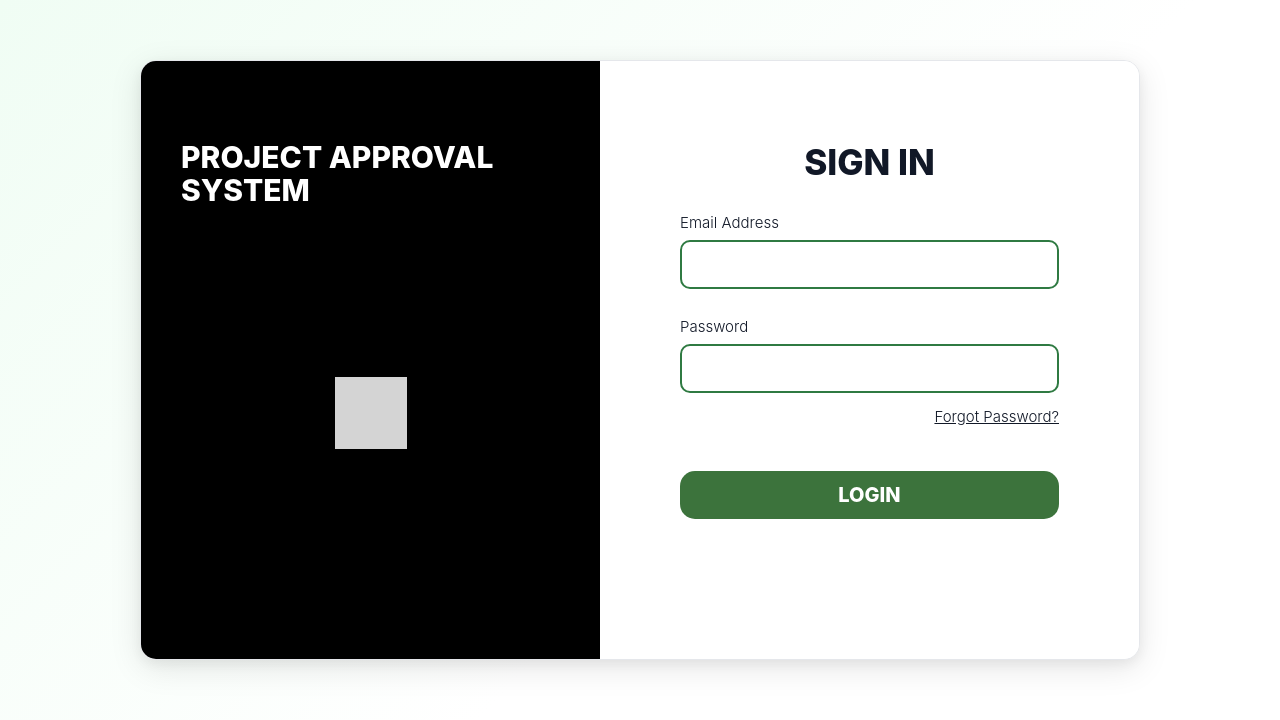
LoginPage › Form Validation › should show error when email is empty
This screenshot has width=1280, height=720.
Type "password123" into the password field labelled "Password".
click(870, 368); type("password123")  # box [680, 344, 1059, 393]
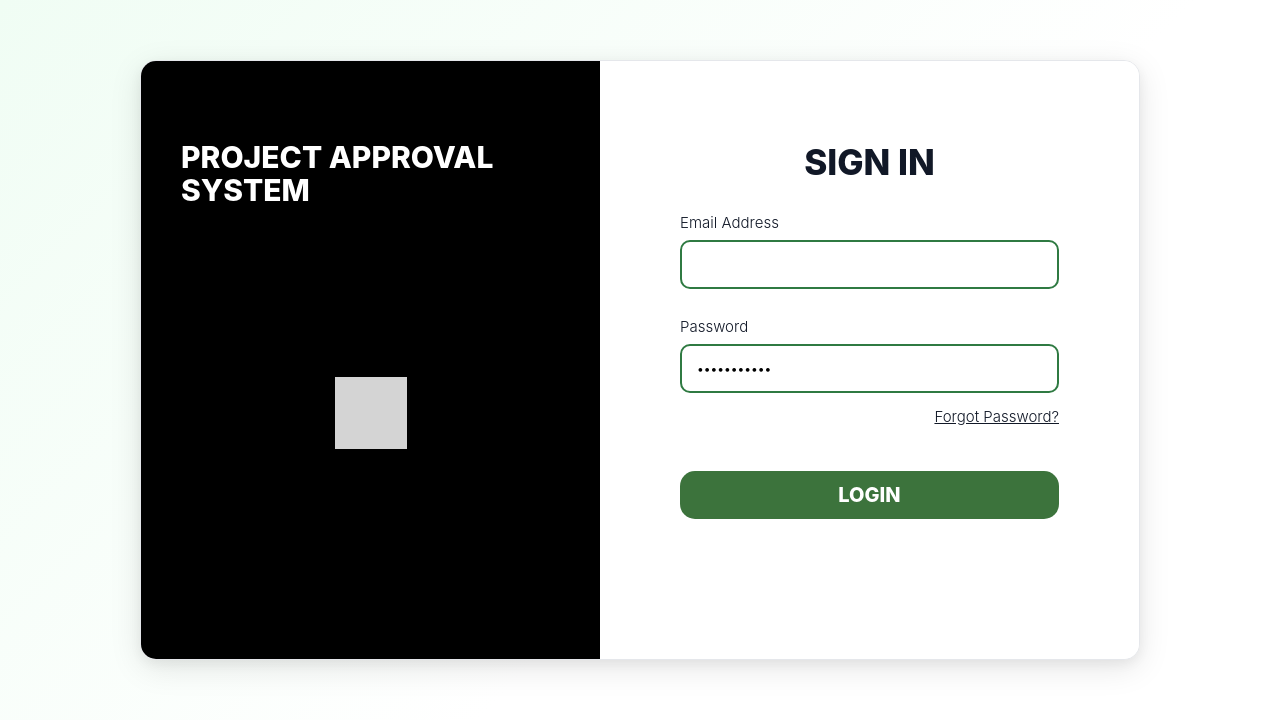
Click the button "LOGIN".
click(870, 495)  # box [680, 471, 1059, 519]
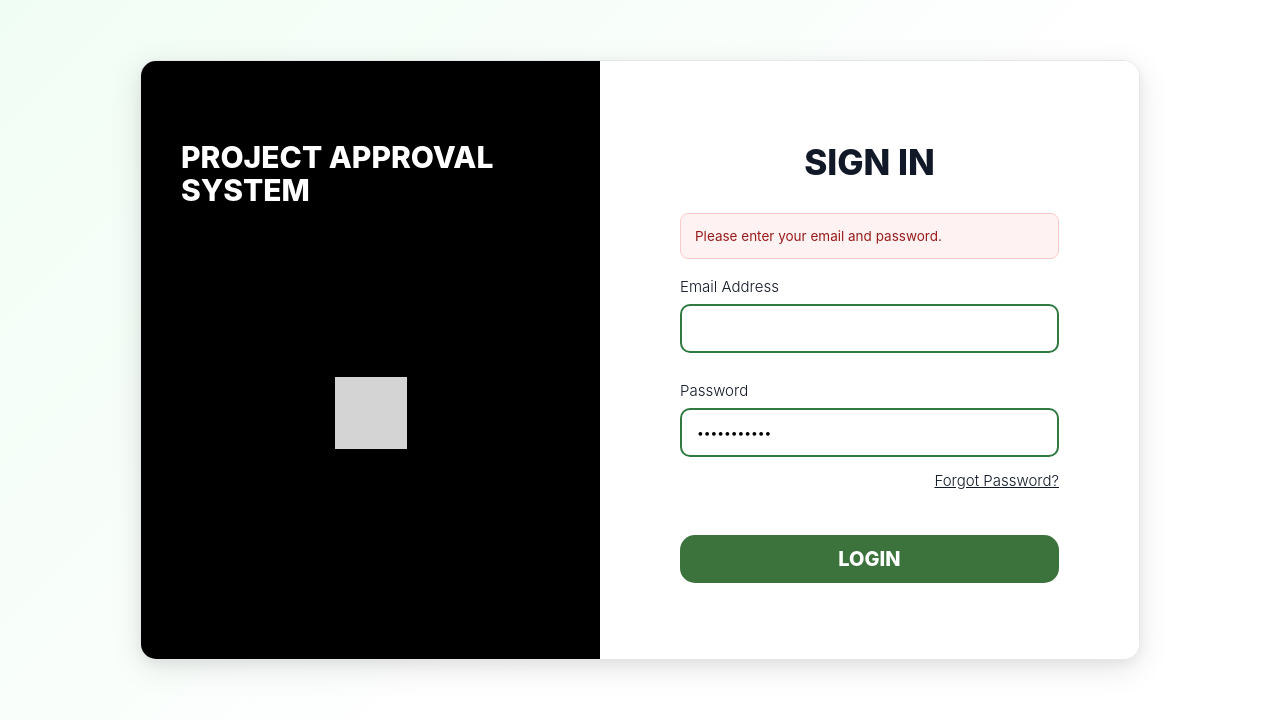
Expected: the text "Please enter your email and password." is shown, [680, 213, 1059, 259]
